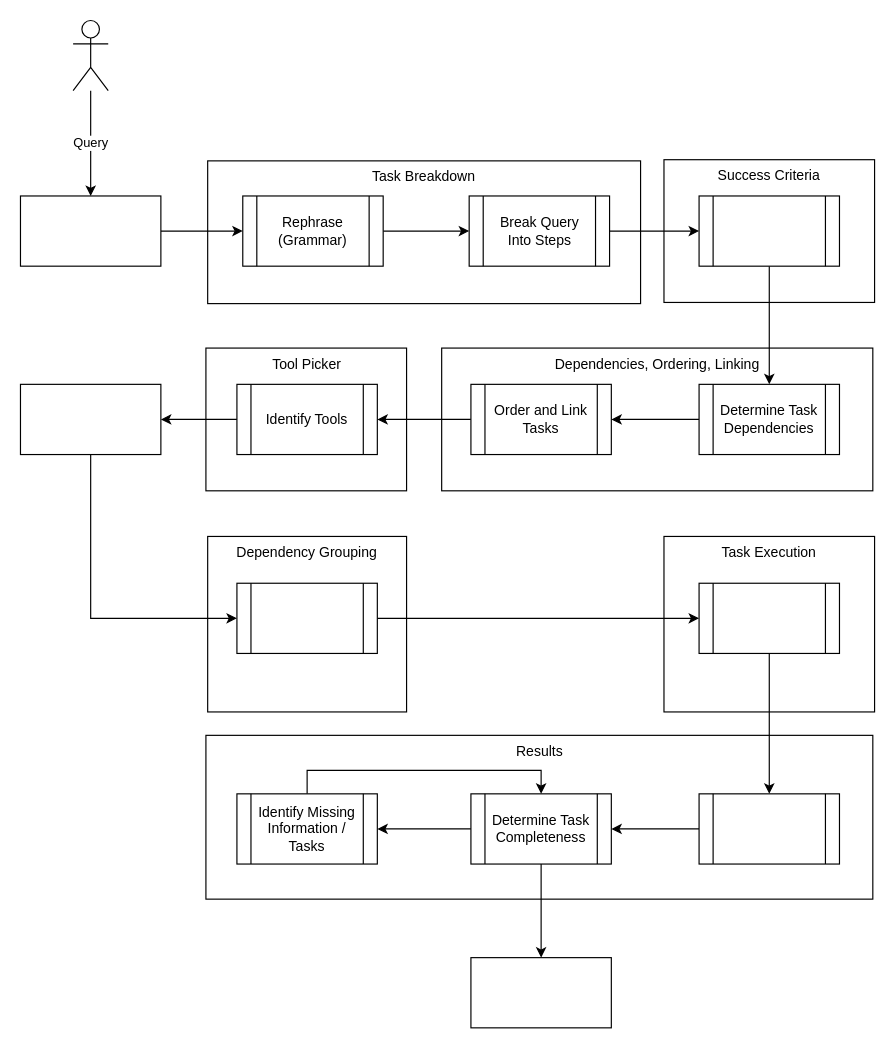
Some shapes in this 895 by 1048 pixel diagram are drawn without their labels. Here are the shapes that lost their labels. From the top down, the centre of each, then its label:
At (90,230): "Coordinator AI".
At (768,230): "Determine & Attach Success Criteria".
At (90,419): "Tasks with Dependencies & Tools".
At (306,617): "Split Tasks Into Dependency Groups".
At (768,617): "Run Dependency Groups".
At (768,828): "Collect Intermediate Results".
At (540,992): "Completed Task(s)".
